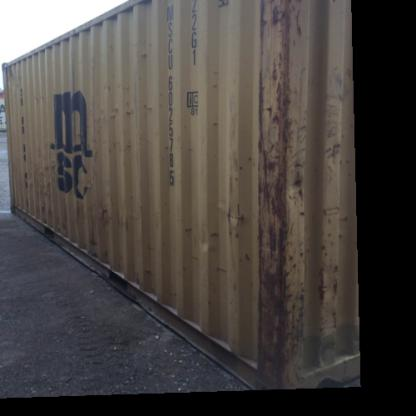Damage: (254, 2, 340, 392), (69, 191, 125, 266), (218, 145, 245, 267), (26, 148, 75, 182), (178, 218, 194, 239)
